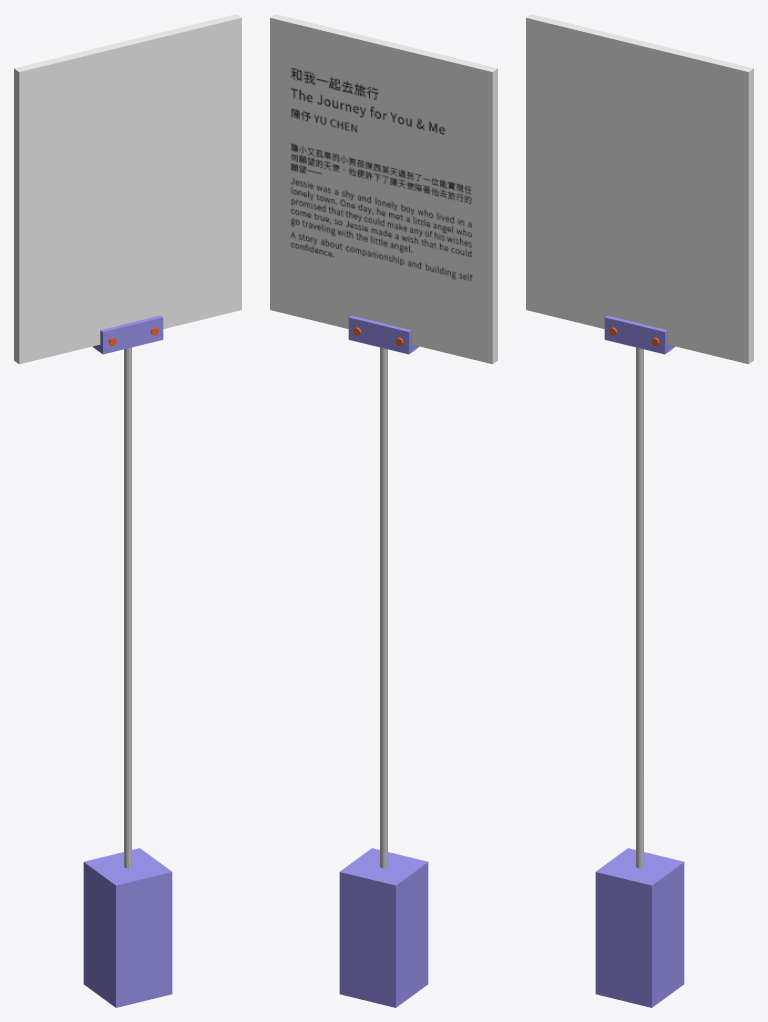
Rendered from worksign_A0607105.fbx.
3 renders of one model, left to right at view 1: azimuth 30°, elevation 25°; view 2: azimuth 150°, elevation 25°; view 3: azimuth 330°, elevation 25°, orthographic.
Parts seen in each view (by area): view 1: work_detail_A0607105, work_sign; view 2: work_detail_A0607105, work_sign; view 3: work_detail_A0607105, work_sign.
Part boxes in pixels (x1,y1,x2,y2): work_detail_A0607105: (14, 14, 241, 364); work_sign: (83, 315, 172, 1007); work_detail_A0607105: (270, 14, 497, 364); work_sign: (339, 315, 428, 1007); work_detail_A0607105: (526, 14, 753, 364); work_sign: (595, 315, 684, 1007).
Size of the model in its own units: 42.19 by 171 by 10.67.
1 material, 1 textured.
